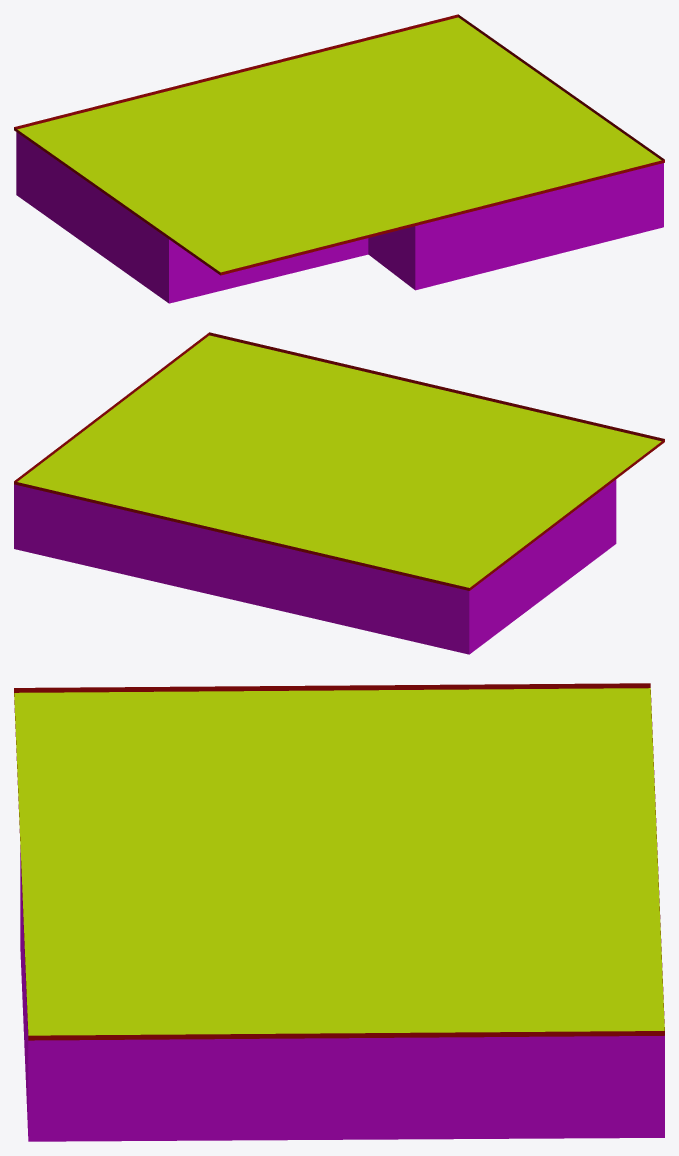
Rendered from rmc_58.glb.
3 renders of one model, top to bottom at view 1: azimuth 30°, elevation 25°; view 2: azimuth 150°, elevation 25°; view 3: azimuth 270°, elevation 25°, orthographic. The views are drawn at different scales.
Visible parts, largest first — view 1: rmc_58; view 2: rmc_58; view 3: rmc_58.
Boxes of the visible parts, x1,y1,x2,y2 form: rmc_58: [14, 14, 664, 303]; rmc_58: [14, 332, 664, 654]; rmc_58: [14, 683, 664, 1141].
Size of the model in its own units: 54.18 by 7.67 by 42.3.
